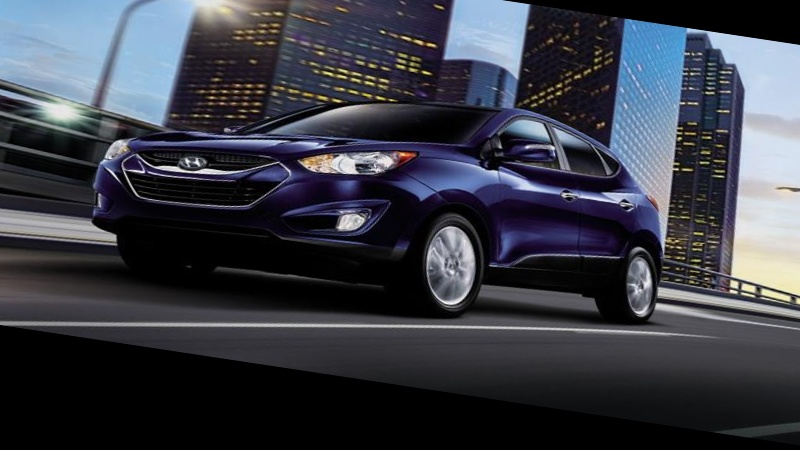car: (1, 28, 705, 362)
